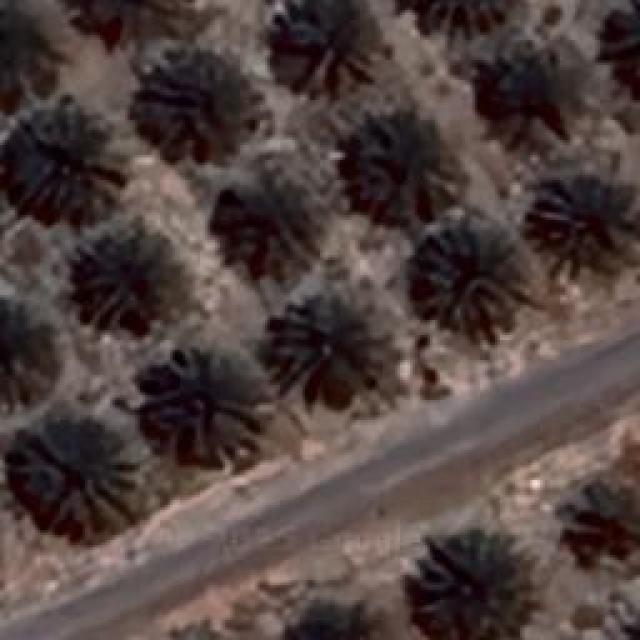PalmTree: (148, 342, 268, 462), (268, 300, 400, 405), (4, 121, 124, 234), (412, 222, 530, 328), (340, 110, 455, 215), (411, 537, 528, 640), (12, 435, 138, 530), (86, 236, 196, 336), (235, 161, 328, 279), (530, 180, 638, 275), (152, 59, 250, 152), (471, 45, 574, 133), (288, 0, 382, 85), (565, 467, 640, 565), (0, 277, 52, 414), (0, 1, 62, 113), (60, 0, 196, 50), (285, 590, 394, 640), (394, 0, 520, 41), (599, 0, 640, 94)
